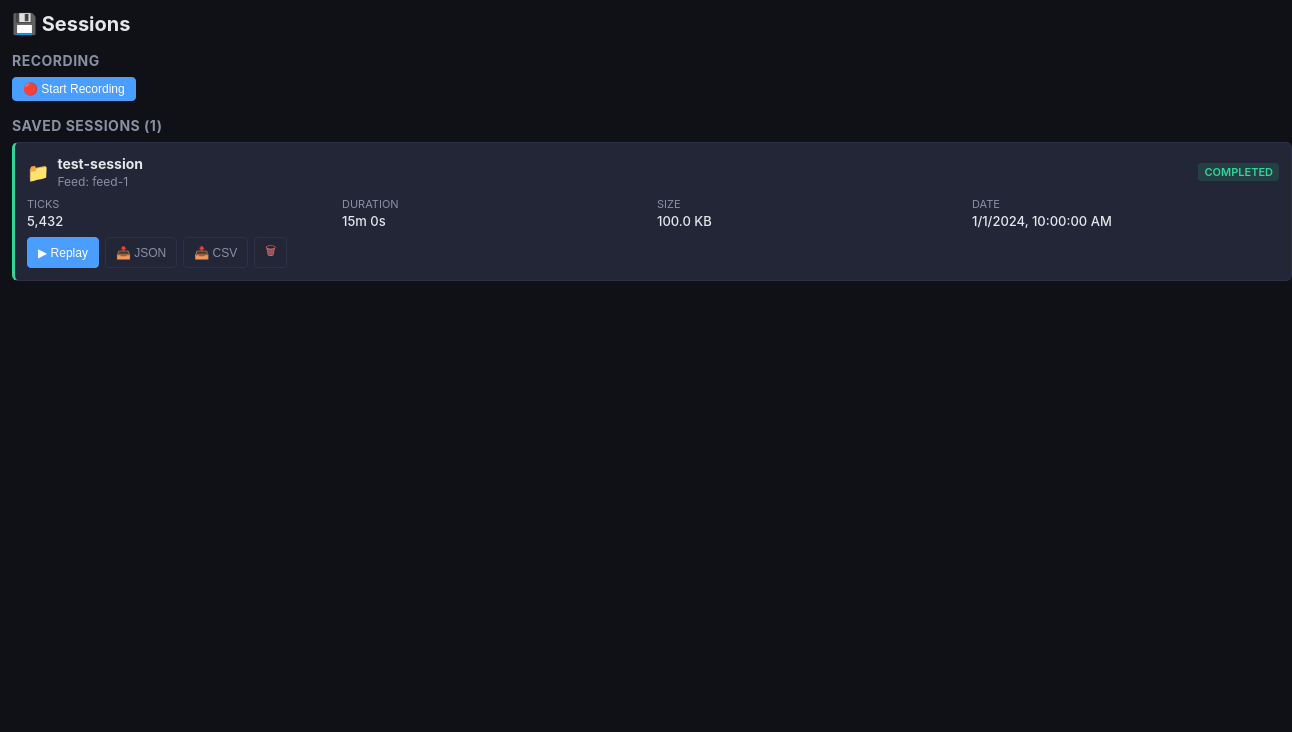
SessionManager › shows validation results after replay completes
Expected: the text "test-session" is shown, [58,155,143,172]
Step 1. Click the button "▶ Replay" → (63, 252), box [27,237,99,268]
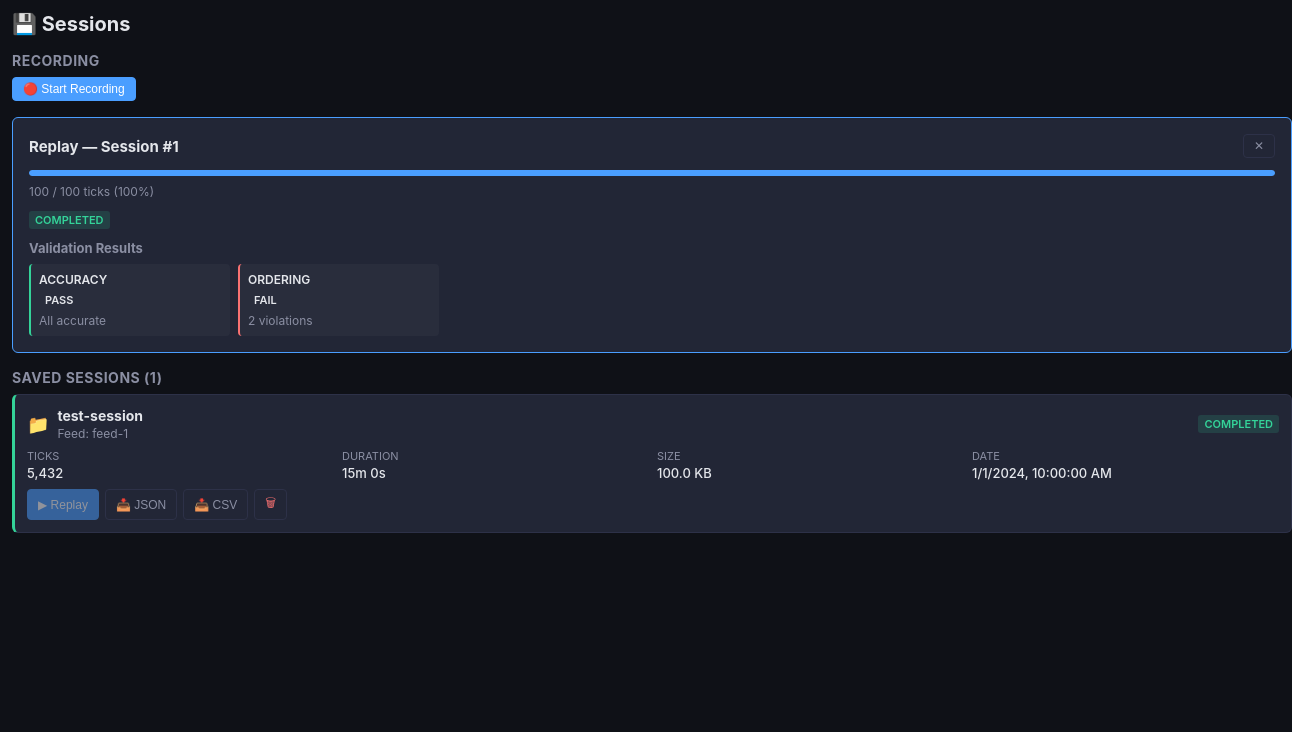
Expected: the text "ACCURACY" is shown, [39,272,107,287]
Expected: the text "All accurate" is shown, [39,313,106,328]
Expected: the text "ORDERING" is shown, [248,272,310,287]
